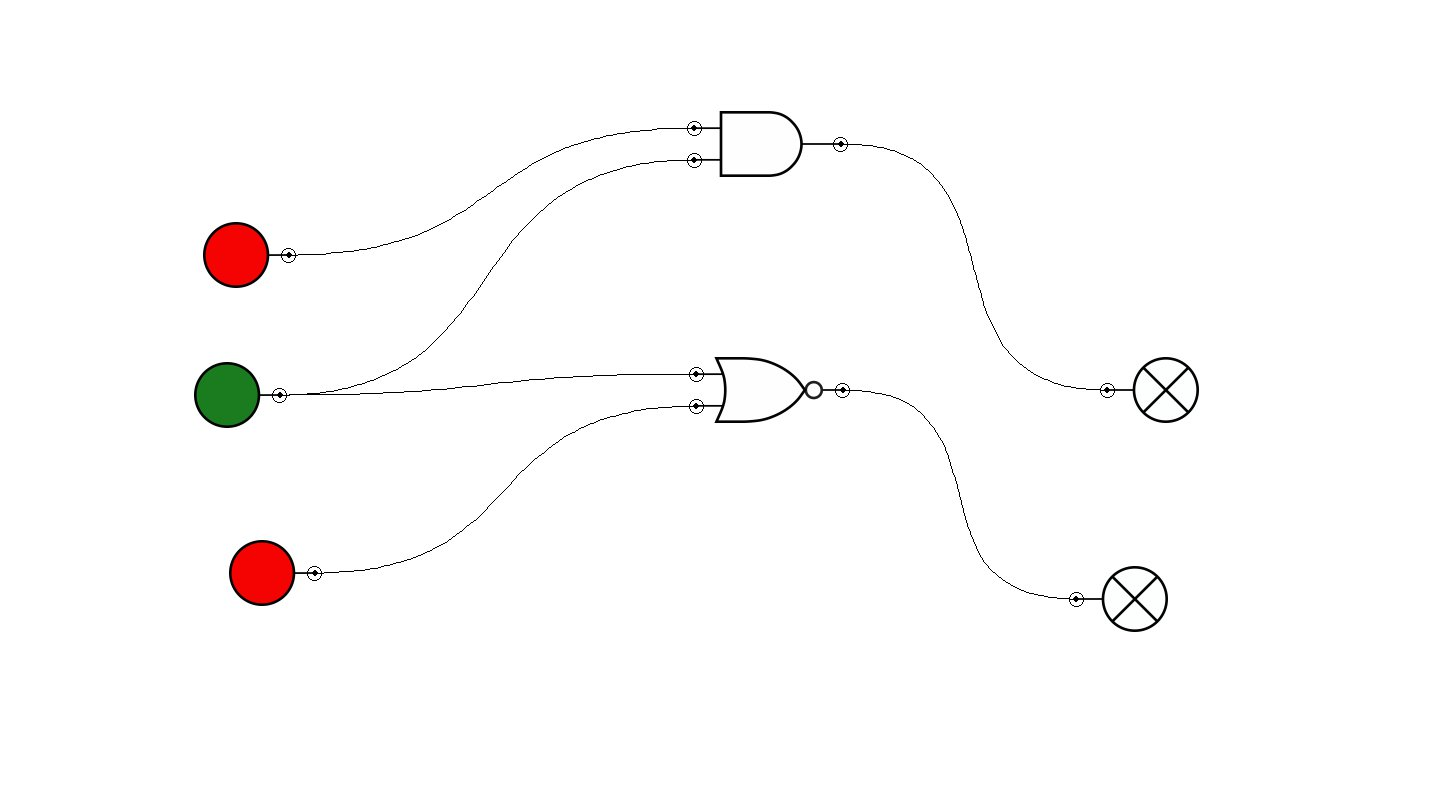and: (687, 111, 848, 177)
bulb: (1100, 357, 1199, 423), (1069, 566, 1168, 632)
nor: (689, 357, 850, 423)
switch_False: (203, 222, 296, 288), (229, 540, 322, 606)
switch_True: (194, 362, 287, 428)
